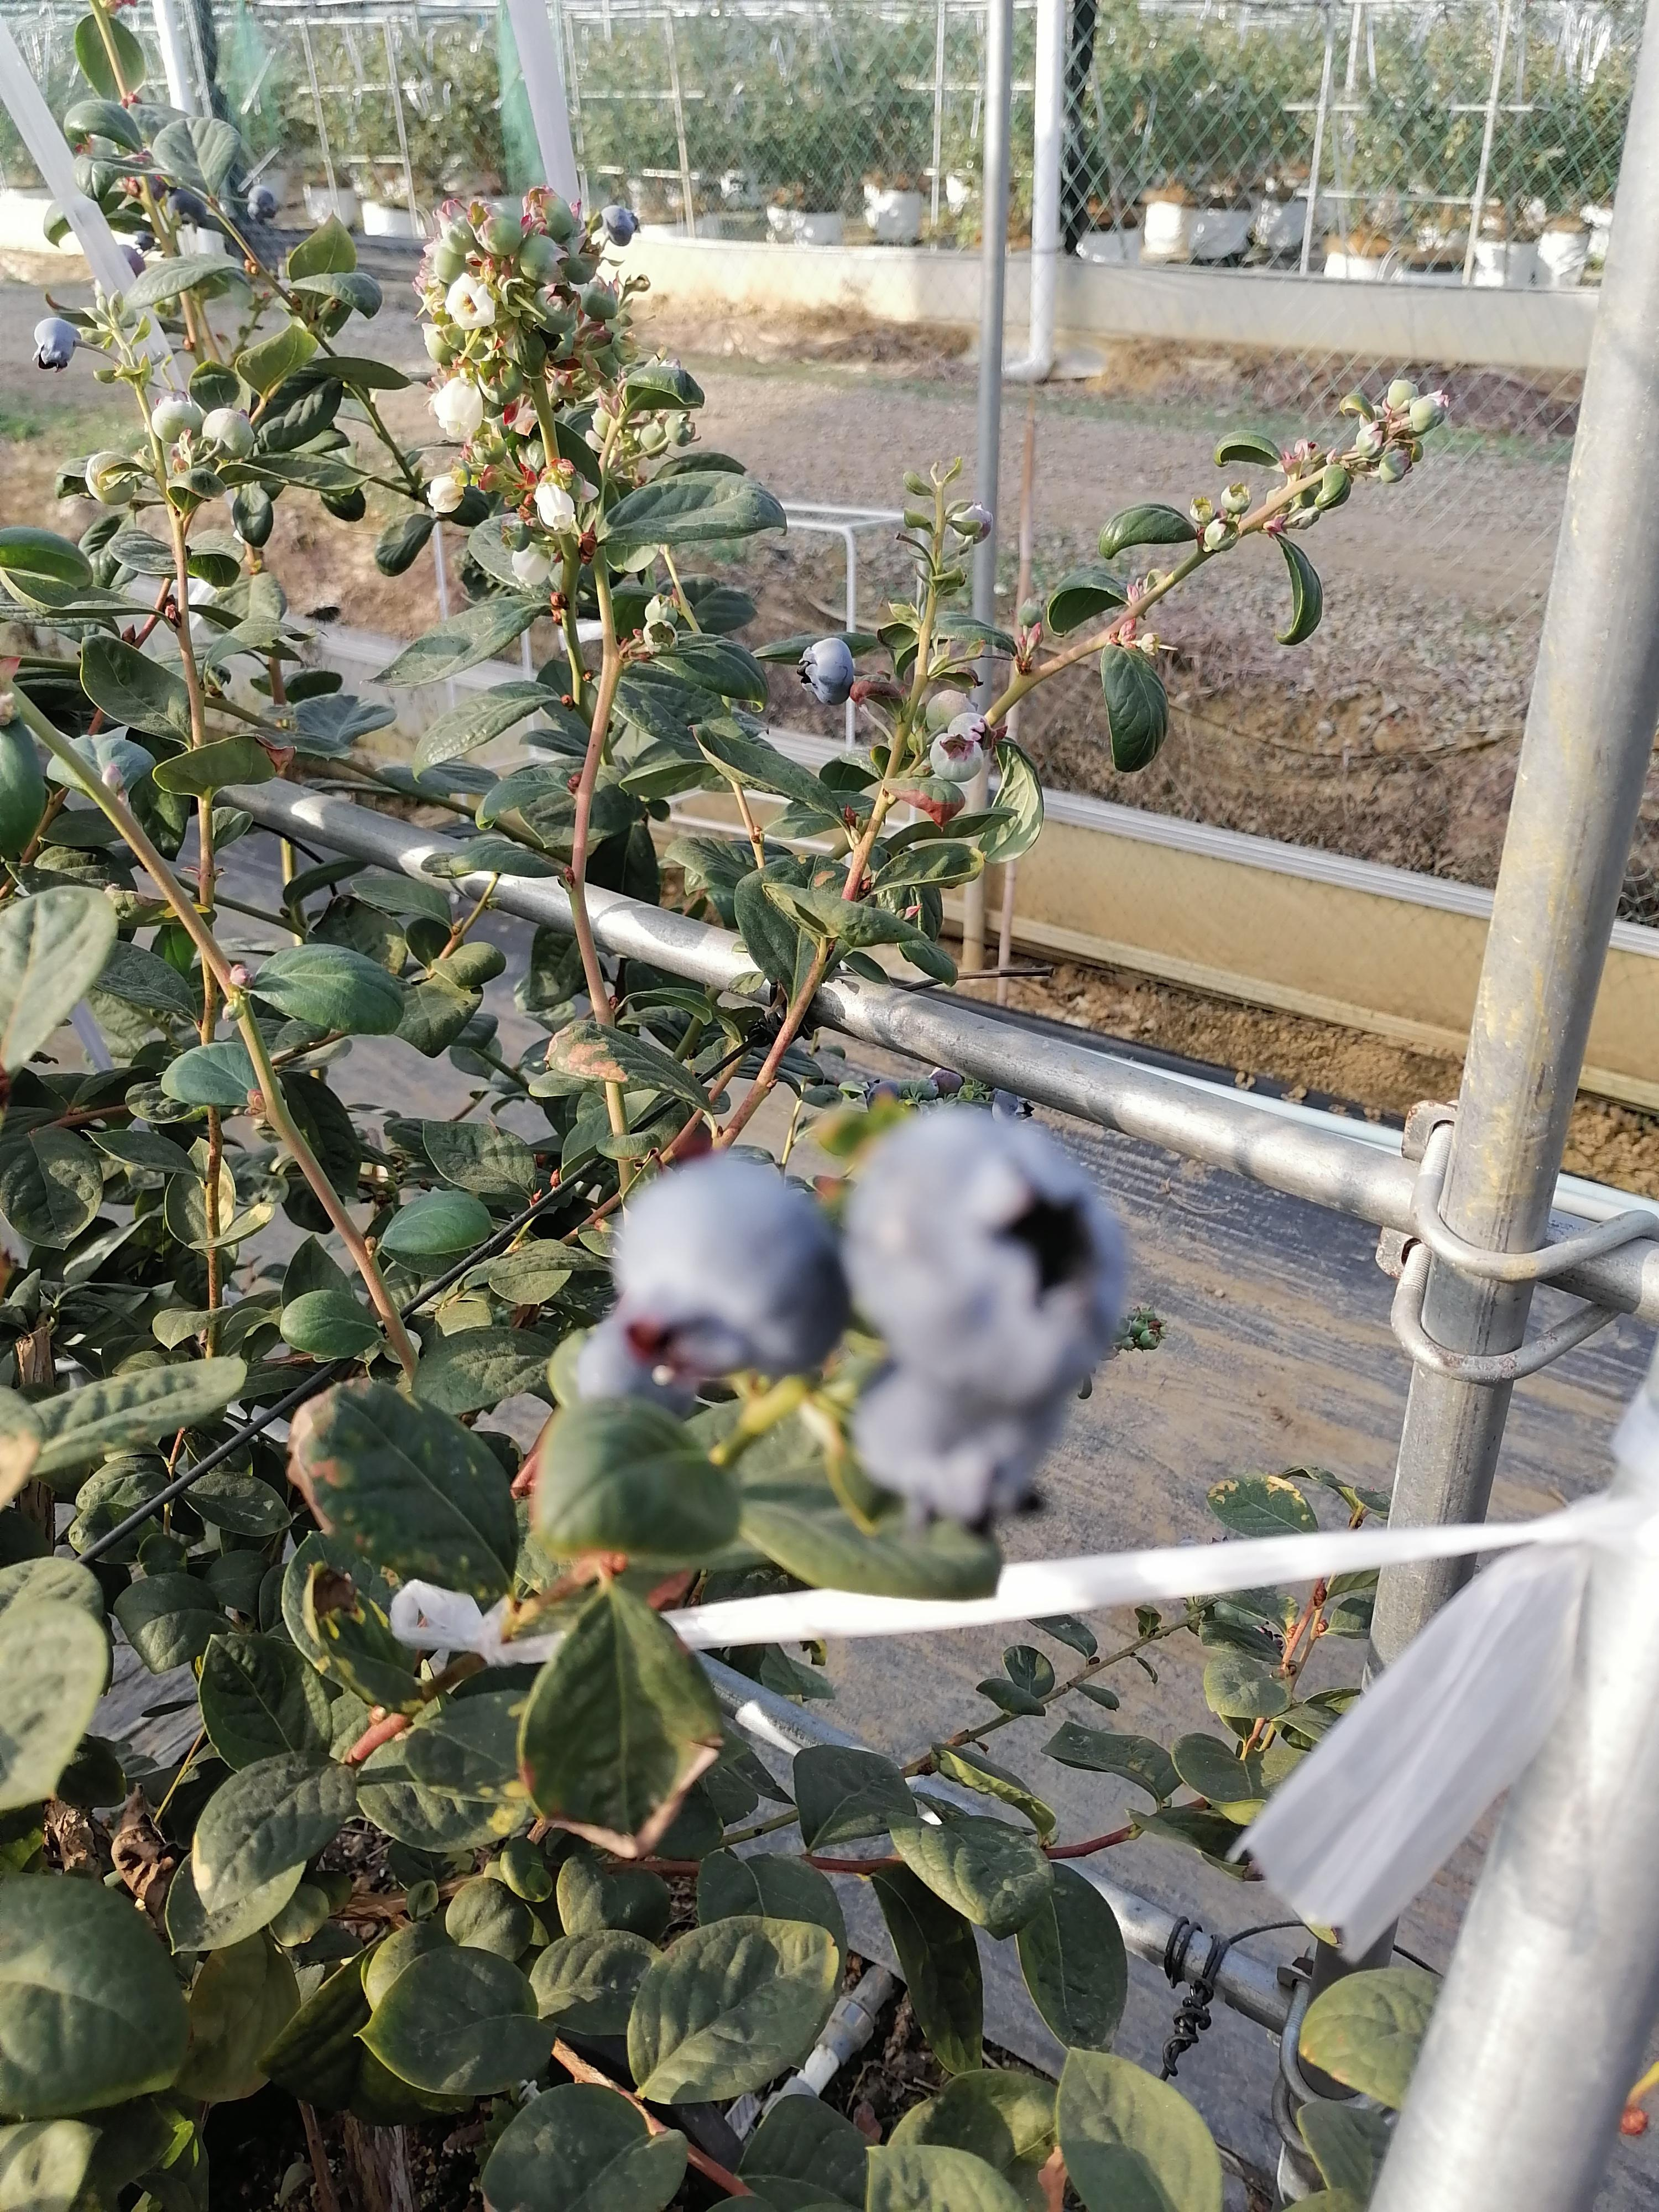ripe-blueberries: (850, 1111, 1131, 1407), (620, 1153, 852, 1383), (854, 1374, 1070, 1527), (575, 1313, 697, 1421), (800, 636, 857, 707), (31, 315, 80, 374), (601, 202, 641, 247), (992, 1089, 1035, 1129), (246, 183, 277, 225)
